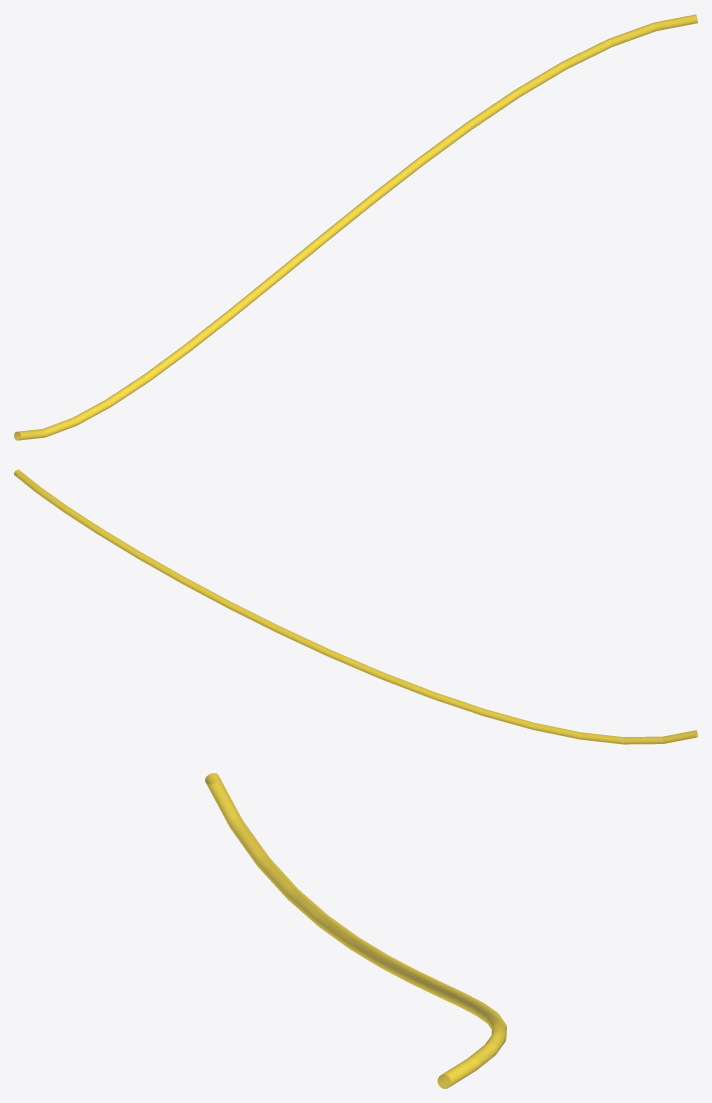
The model's file is Event_84804159_track_65.fbx.
3 renders of one model, top to bottom at view 1: azimuth 30°, elevation 25°; view 2: azimuth 150°, elevation 25°; view 3: azimuth 270°, elevation 25°, orthographic. The views are drawn at different scales.
Visible parts, largest first — view 1: Model; view 2: Model; view 3: Model.
Boxes of the visible parts, bbox=[...] form: Model: bbox=[14, 14, 697, 440]; Model: bbox=[14, 469, 697, 744]; Model: bbox=[205, 773, 506, 1088].
Size of the model in its own units: 3.84 by 1.01 by 0.8047.
